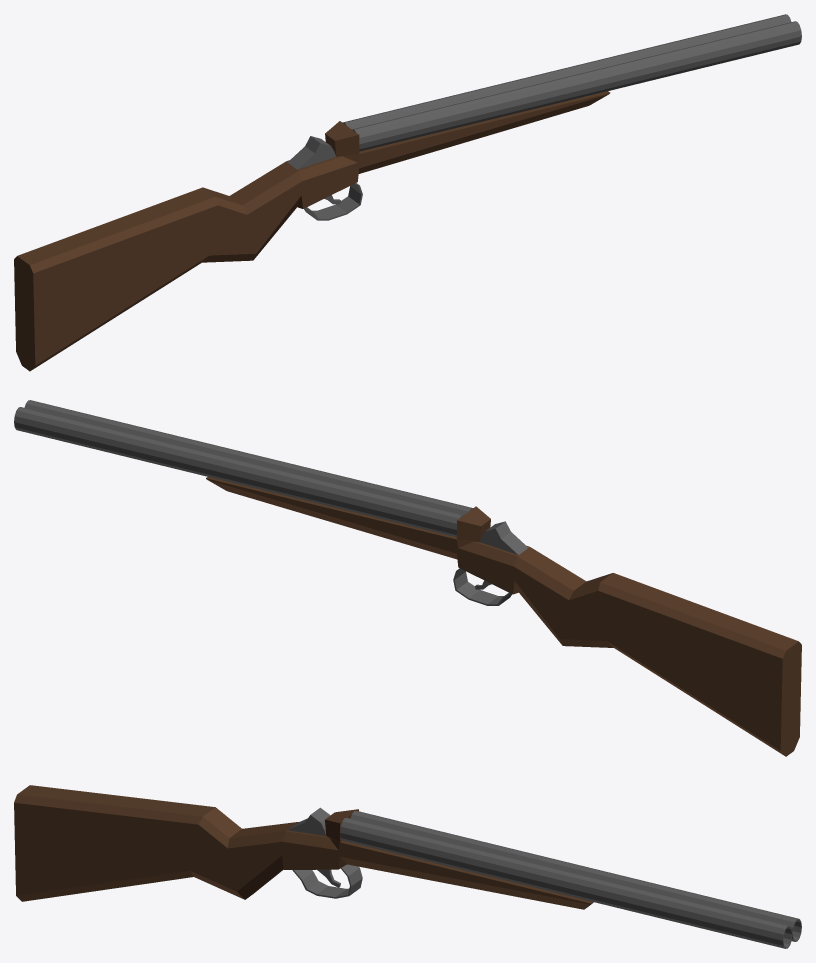
Rendered from Shotgun.dae.
3 renders of one model, top to bottom at view 1: azimuth 30°, elevation 25°; view 2: azimuth 150°, elevation 25°; view 3: azimuth 330°, elevation 25°, orthographic.
Visible parts, largest first — view 1: Cube; view 2: Cube; view 3: Cube.
Boxes of the visible parts, box(x1,y1,x2,y2) form: Cube: box(14, 14, 801, 371); Cube: box(14, 400, 801, 756); Cube: box(14, 785, 801, 948).
Bounding box in the file's own units: 3.14 × 0.1363 × 0.6376.
